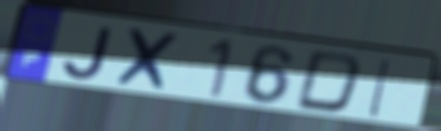1: (206, 38, 236, 101)
6: (242, 43, 299, 108)
D: (291, 48, 366, 115)
I: (365, 56, 395, 120)
J: (60, 24, 117, 82)
X: (112, 26, 183, 95)
